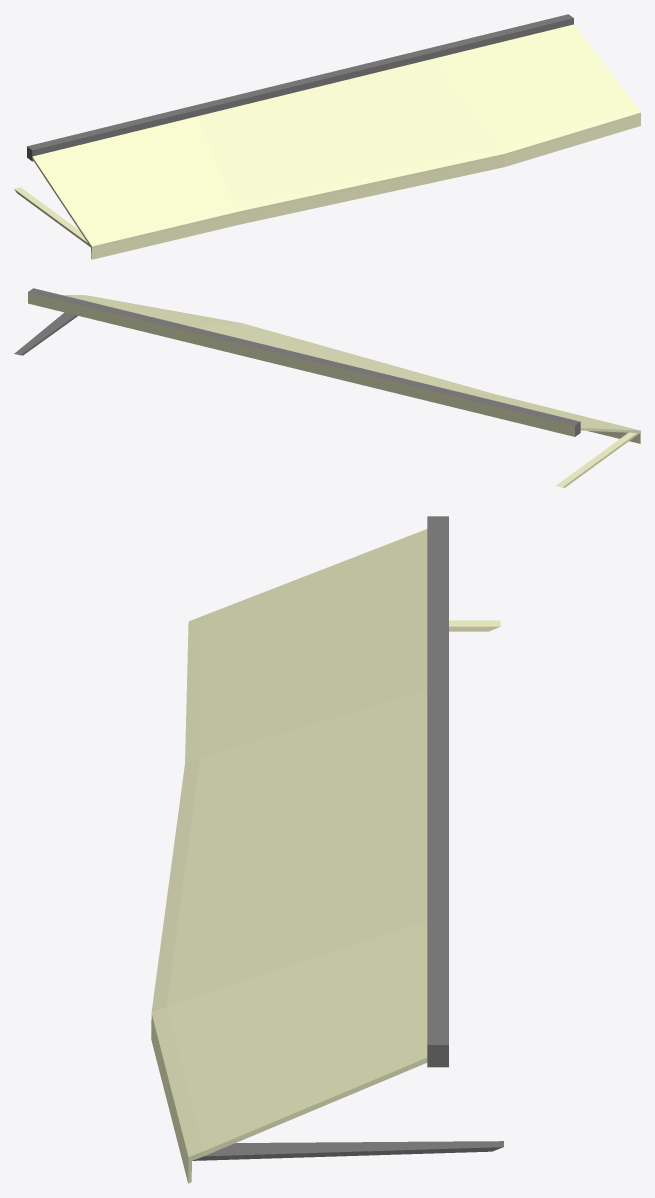
Rendered from ShopAwning.fbx.
3 views of the same model, one above another, from view 1: azimuth 30°, elevation 25°; view 2: azimuth 150°, elevation 25°; view 3: azimuth 270°, elevation 25° (orthographic). The views are drawn at different scales.
Parts seen in each view (by area): view 1: Cube.045; view 2: Cube.045; view 3: Cube.045.
Part boxes in pixels (x1=…): Cube.045: x1=14, y1=14, x2=640, y2=259; Cube.045: x1=14, y1=288, x2=640, y2=487; Cube.045: x1=151, y1=516, x2=503, y2=1183.
Size of the model in its own units: 491 by 56.13 by 136.
